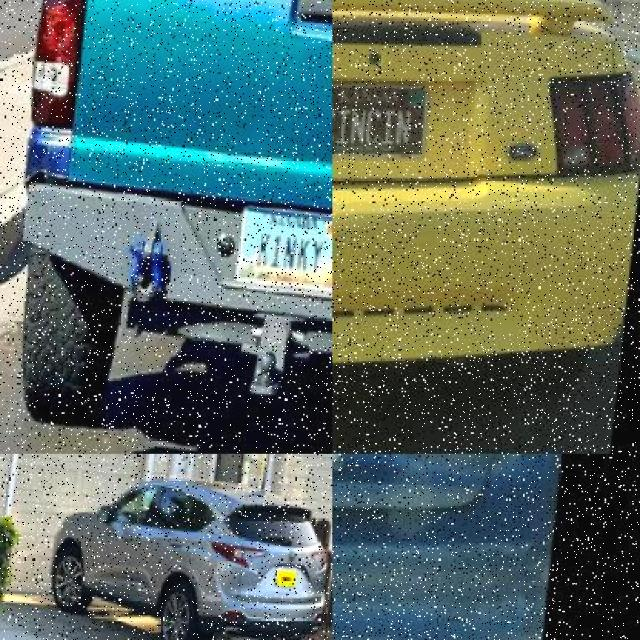licenseplate: (237, 206, 332, 296), (332, 85, 431, 162), (332, 454, 402, 524), (280, 570, 300, 589)
